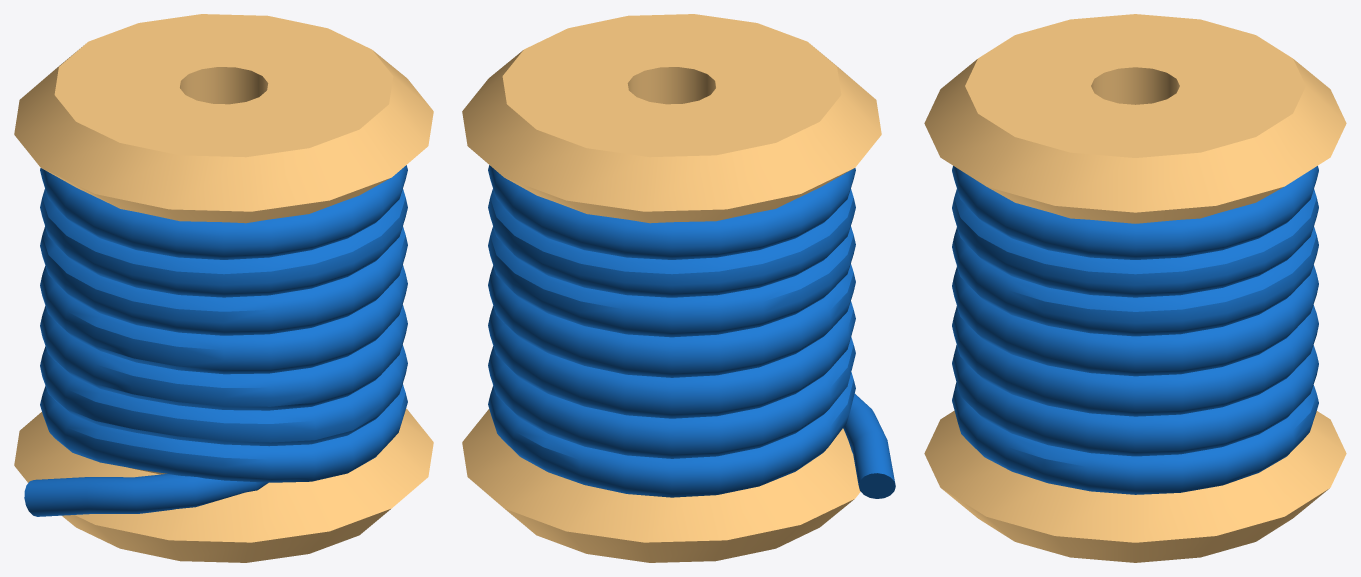
The model's file is thread.fbx.
3 views of the same model, side by side, from view 1: azimuth 30°, elevation 25°; view 2: azimuth 150°, elevation 25°; view 3: azimuth 270°, elevation 25° (orthographic).
Parts seen in each view (by area): view 1: Torus; view 2: Torus; view 3: Torus.
Boxes of the visible parts, box(x1,y1,x2,y2) form: Torus: box(14, 14, 433, 562); Torus: box(462, 14, 895, 562); Torus: box(924, 14, 1346, 562).
Size of the model in its own units: 204 by 202 by 190.
Materials: 1 (1 with a texture image).
